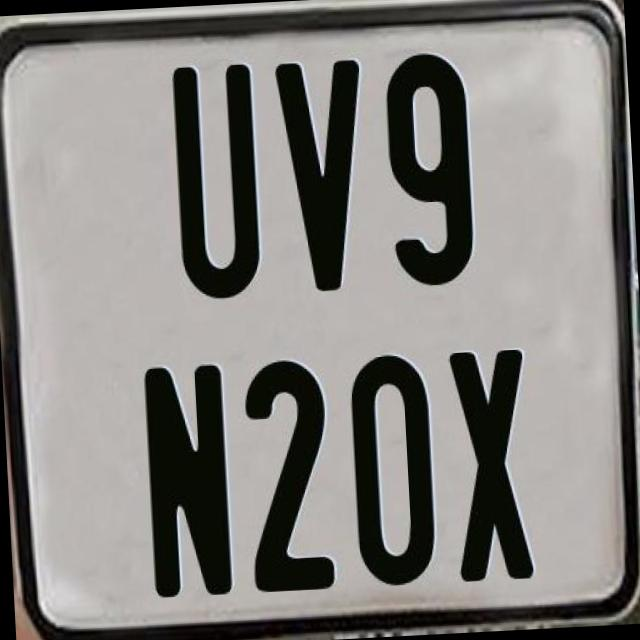0: (346, 350, 436, 590)
2: (239, 357, 338, 591)
9: (379, 47, 478, 290)
N: (141, 362, 239, 601)
U: (168, 64, 260, 305)
V: (274, 55, 378, 291)
X: (446, 348, 538, 584)
